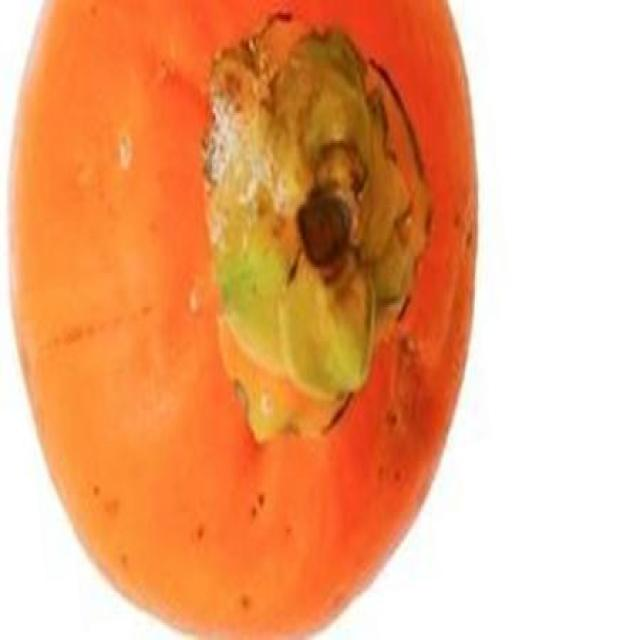good: (20, 0, 475, 638)
